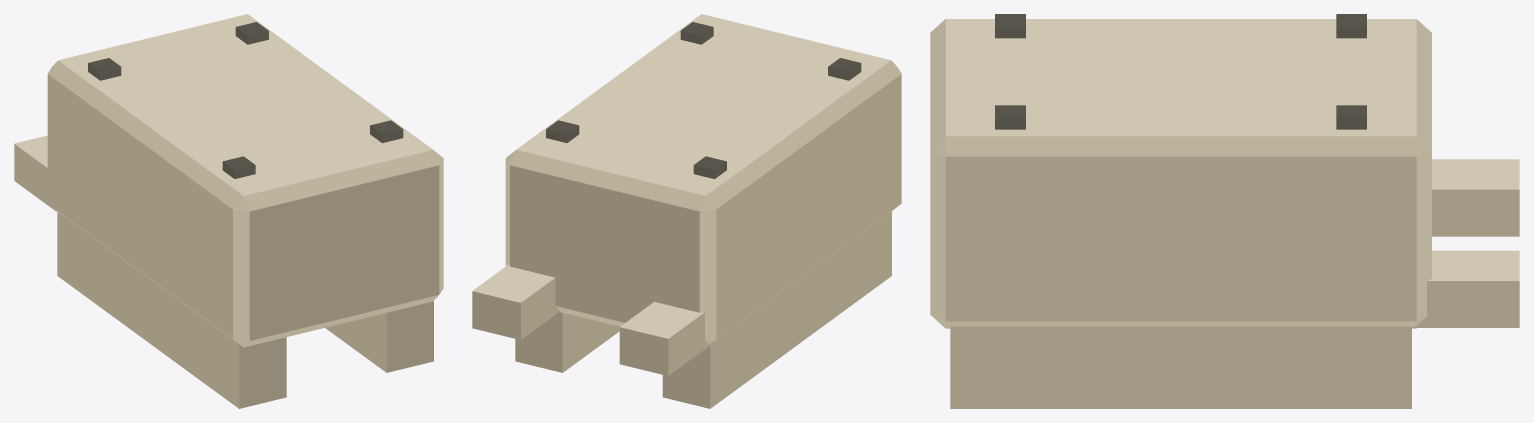
The model's file is ERA_M7_CHEEK_1_2.glb.
3 views of the same model, side by side, from view 1: azimuth 30°, elevation 25°; view 2: azimuth 150°, elevation 25°; view 3: azimuth 270°, elevation 25° (orthographic). The views are drawn at different scales.
Parts seen in each view (by area): view 1: ERA_M7_CHEEK_1_2.001; view 2: ERA_M7_CHEEK_1_2.001; view 3: ERA_M7_CHEEK_1_2.001.
Boxes of the visible parts, x1=… form: ERA_M7_CHEEK_1_2.001: x1=14, y1=14, x2=443, y2=408; ERA_M7_CHEEK_1_2.001: x1=472, y1=14, x2=901, y2=408; ERA_M7_CHEEK_1_2.001: x1=930, y1=14, x2=1519, y2=408.
Bounding box in the file's own units: 0.16 × 0.1615 × 0.3055.
